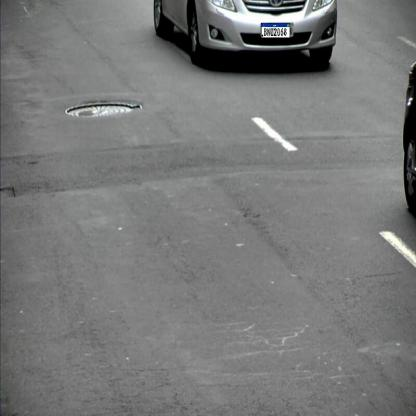PlacaM: (261, 23, 290, 38)
